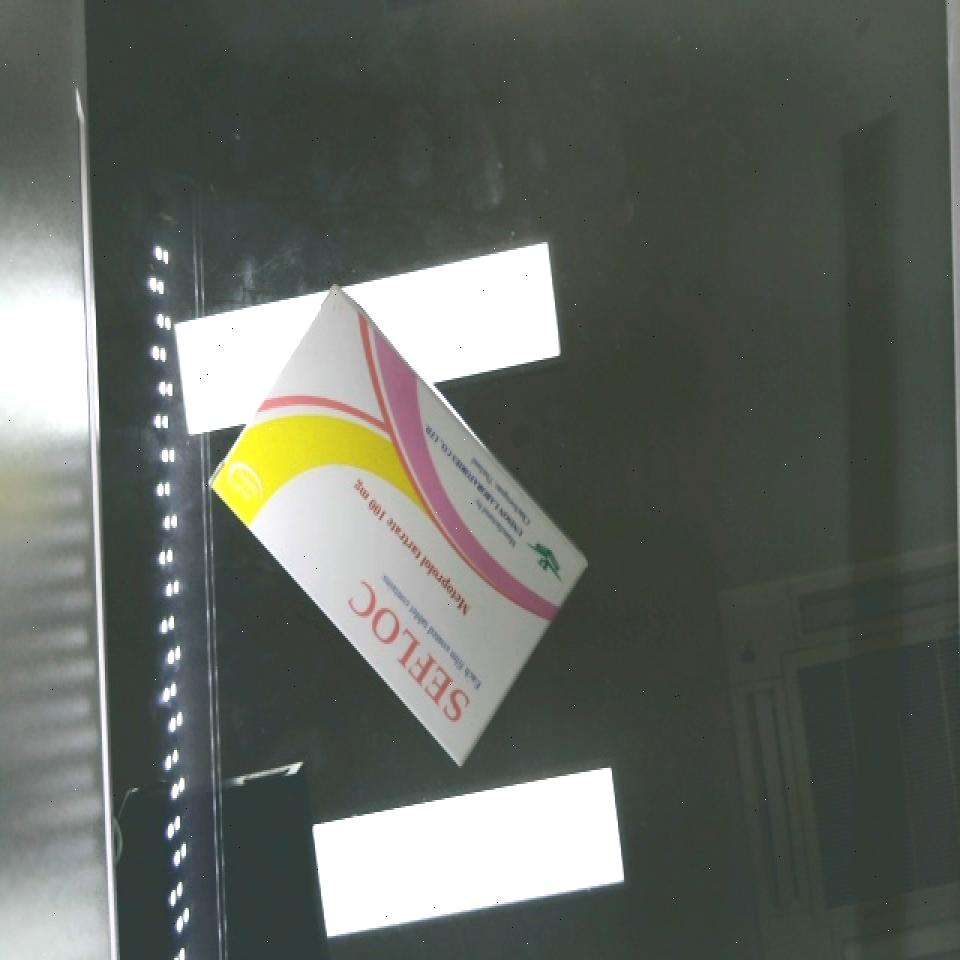medicine_box: (162, 282, 637, 770)
medicine_label_obb: (326, 565, 499, 750)
